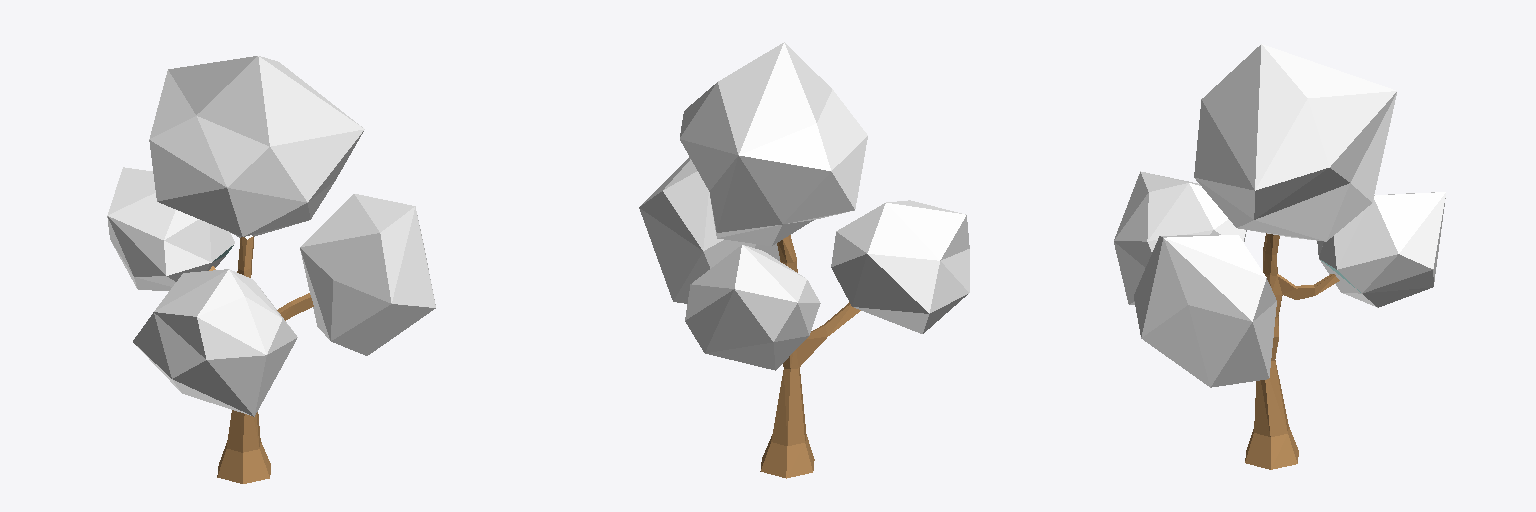
Rendered from baum_groß.obj.
3 renders of one model, left to right at view 1: azimuth 30°, elevation 25°; view 2: azimuth 150°, elevation 25°; view 3: azimuth 270°, elevation 25°, orthographic.
Visible parts, largest first — view 1: Normal_Tree01; view 2: Normal_Tree01; view 3: Normal_Tree01.
Boxes of the visible parts, x1=… form: Normal_Tree01: x1=107, y1=56, x2=435, y2=483; Normal_Tree01: x1=639, y1=42, x2=969, y2=478; Normal_Tree01: x1=1114, y1=44, x2=1445, y2=469.
Size of the model in its own units: 557 by 779 by 563.